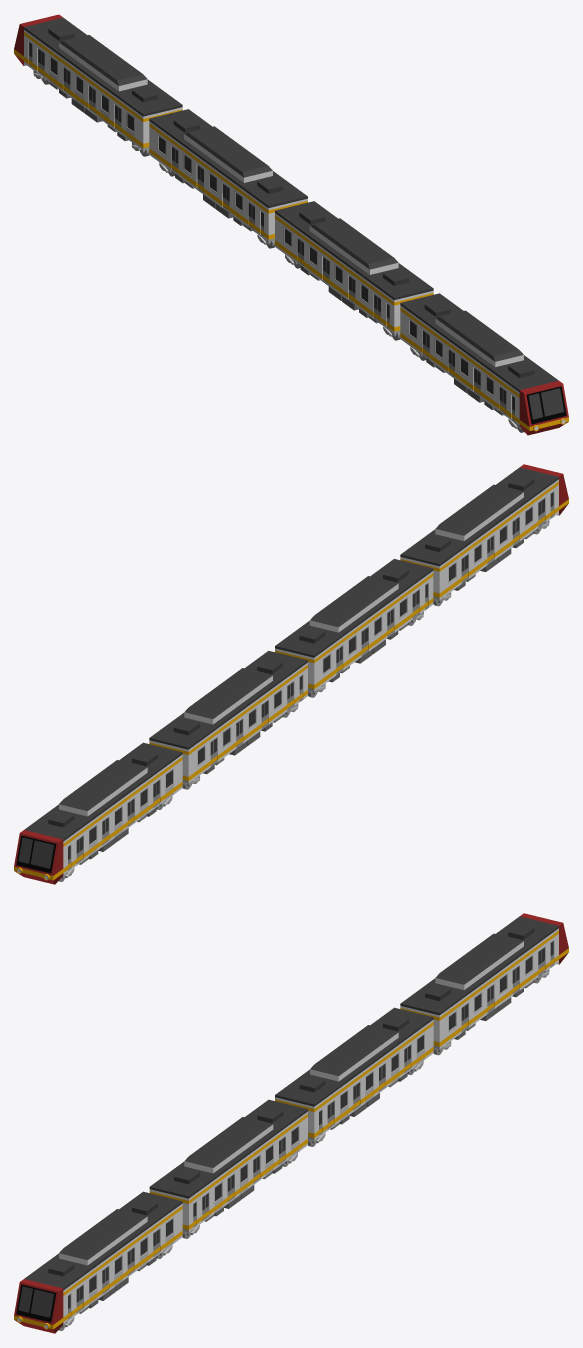
Rendered from Kereta_1_Gray_D.fbx.
3 views of the same model, one above another, from view 1: azimuth 30°, elevation 25°; view 2: azimuth 150°, elevation 25°; view 3: azimuth 330°, elevation 25° (orthographic).
Visible parts, largest first — view 1: Object; view 2: Object; view 3: Object.
Part boxes in pixels (left/top/right/bottom): Object: left=14, top=14, right=568, bottom=435; Object: left=14, top=464, right=568, bottom=884; Object: left=14, top=913, right=568, bottom=1333.
Size of the model in its own units: 604 by 833 by 13672.
2 materials, 2 textured.
